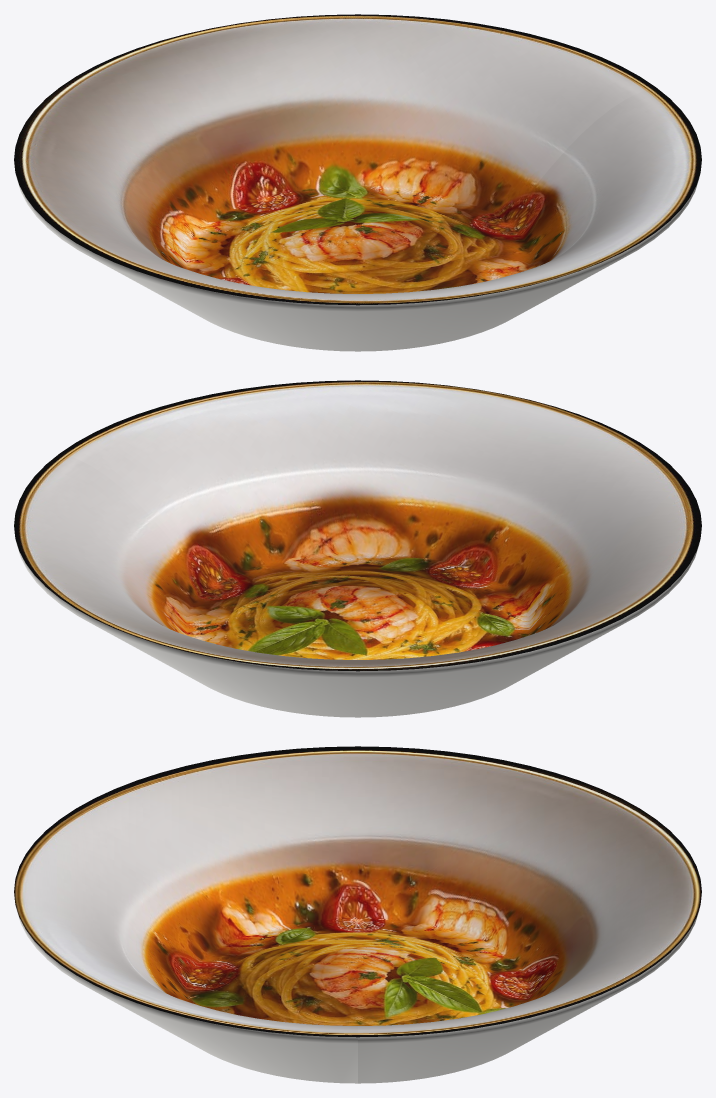
File: tagliolini.glb
The picture shows the model from 3 angles, top to bottom: view 1: azimuth 30°, elevation 25°; view 2: azimuth 150°, elevation 25°; view 3: azimuth 270°, elevation 25°; orthographic projection.
Parts seen in each view (by area): view 1: dish; view 2: dish; view 3: dish.
Part boxes in pixels (<box>): dish: <box>14,14,701,351</box>; dish: <box>14,380,701,717</box>; dish: <box>14,746,701,1083</box>.
Bounding box in the file's own units: 0.26 × 0.05 × 0.26.
2 materials, 1 textured.
